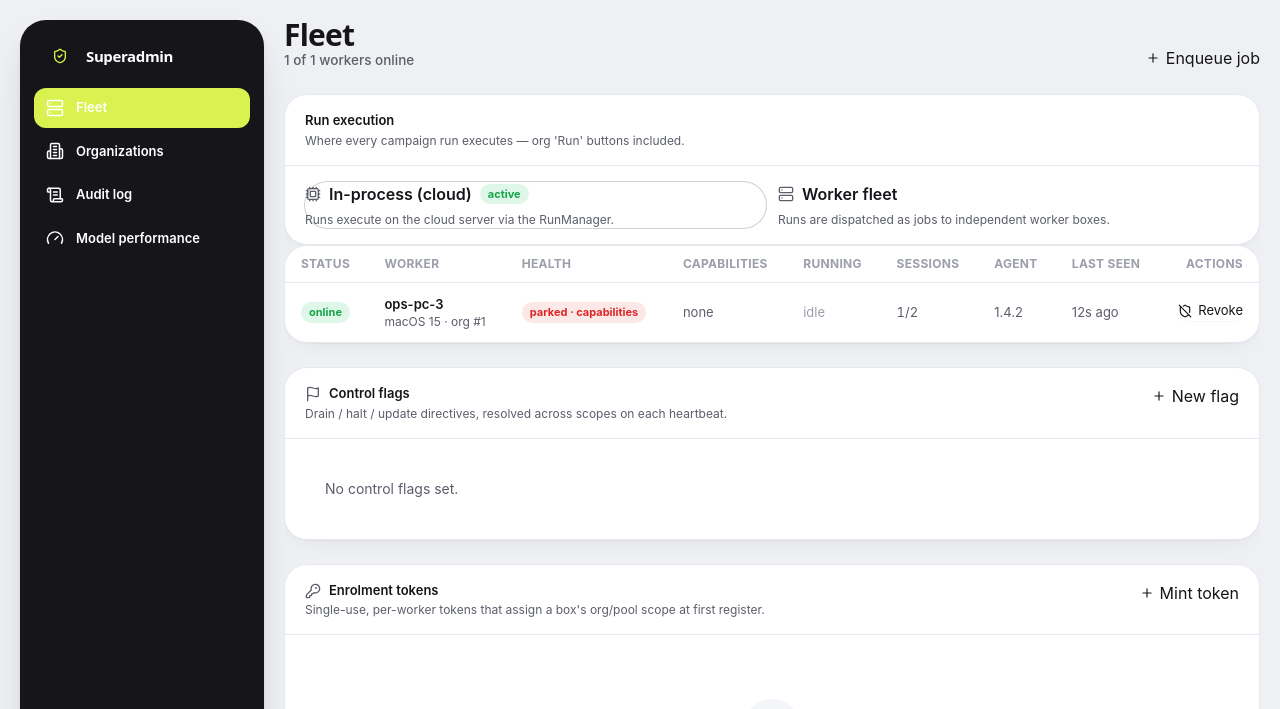
fleet actions › a box parked by its own preflight reads PARKED, never healthy
Expected: the text "ops-pc-3" is shown, [384,296,444,312]
What coordinates should you click on to do the following:
click the button "parked · capabilities"
I would click on:
 (584, 313)
Its box is [522,302,646,323].
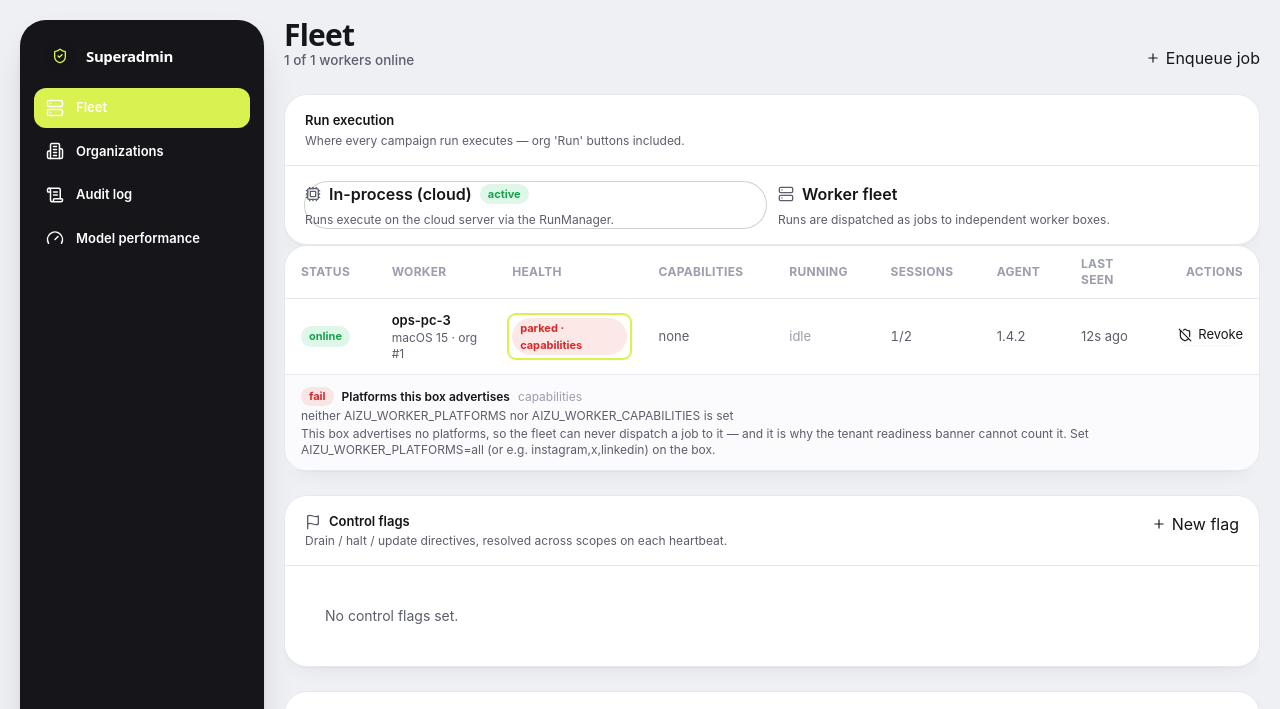
Result: the text "neither AIZU_WORKER_PLATFORMS" is shown at [301,408,734,423]
Result: the text "Set AIZU_WORKER_PLATFORMS=all" is shown at [301,426,1089,457]
